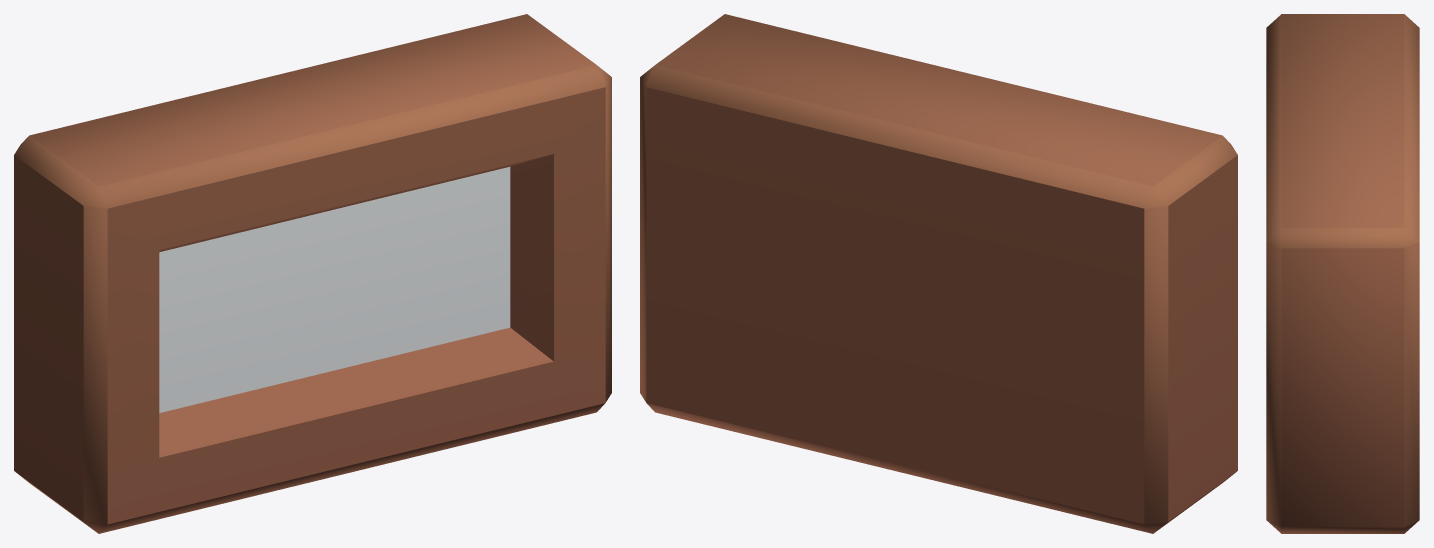
The model's file is pictureframe-small-b.glb.
3 renders of one model, left to right at view 1: azimuth 30°, elevation 25°; view 2: azimuth 150°, elevation 25°; view 3: azimuth 270°, elevation 25°, orthographic. The views are drawn at different scales.
Visible parts, largest first — view 1: pictureframe_small_B; view 2: pictureframe_small_B; view 3: pictureframe_small_B.
Boxes of the visible parts, x1,y1,x2,y2 form: pictureframe_small_B: (14, 14, 611, 533); pictureframe_small_B: (640, 14, 1237, 533); pictureframe_small_B: (1266, 14, 1419, 533).
Bounding box in the file's own units: 0.7 × 0.44 × 0.2.
